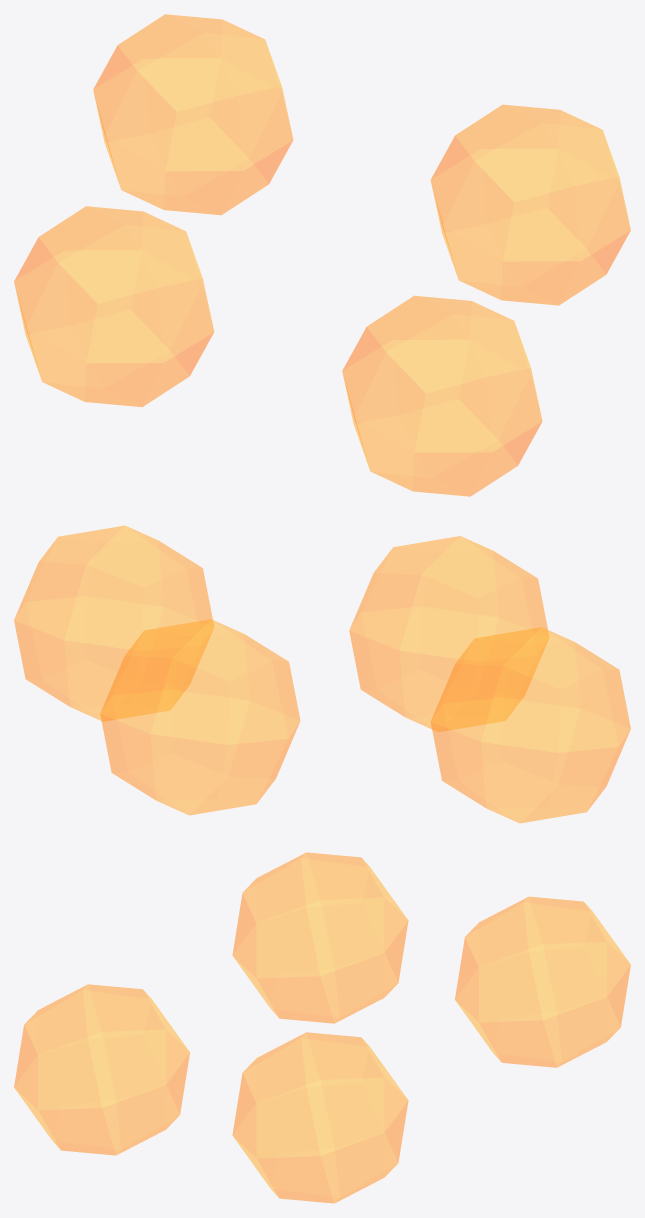
Rendered from orb crown.fbx.
3 renders of one model, top to bottom at view 1: azimuth 30°, elevation 25°; view 2: azimuth 150°, elevation 25°; view 3: azimuth 270°, elevation 25°, orthographic. The views are drawn at different scales.
Visible parts, largest first — view 1: Cube.003, Cube.001, Cube.002, Cube; view 2: Cube, Cube.001, Cube.002, Cube.003; view 3: Cube.003, Cube, Cube.001, Cube.002.
Part boxes in pixels (<box>): Cube.003: <box>430,104,630,305</box>; Cube.001: <box>93,14,293,215</box>; Cube.002: <box>342,295,542,496</box>; Cube: <box>14,206,214,406</box>; Cube: <box>430,627,630,823</box>; Cube.001: <box>100,619,300,815</box>; Cube.002: <box>349,536,549,731</box>; Cube.003: <box>14,525,213,721</box>; Cube.003: <box>232,1032,408,1203</box>; Cube: <box>232,852,408,1023</box>; Cube.001: <box>455,896,630,1067</box>; Cube.002: <box>14,984,189,1155</box>.
Size of the model in its own units: 59.75 by 26.91 by 60.83.
